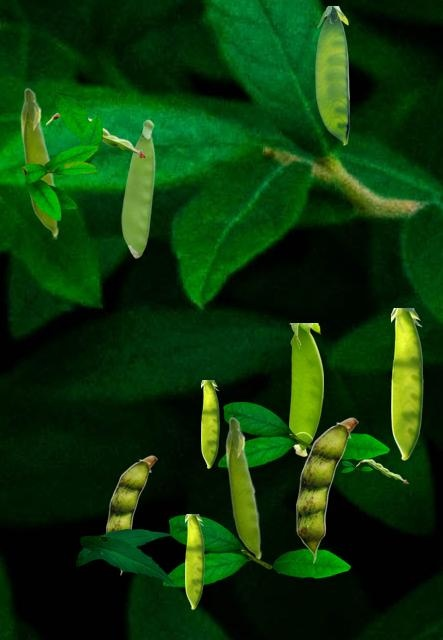pea: (296, 417, 357, 562), (106, 455, 156, 574), (20, 87, 58, 238), (225, 416, 261, 558), (391, 308, 422, 459), (121, 119, 154, 257), (315, 6, 348, 144), (289, 323, 322, 455), (46, 112, 145, 156), (185, 514, 203, 608), (201, 380, 218, 467), (356, 459, 407, 482)
